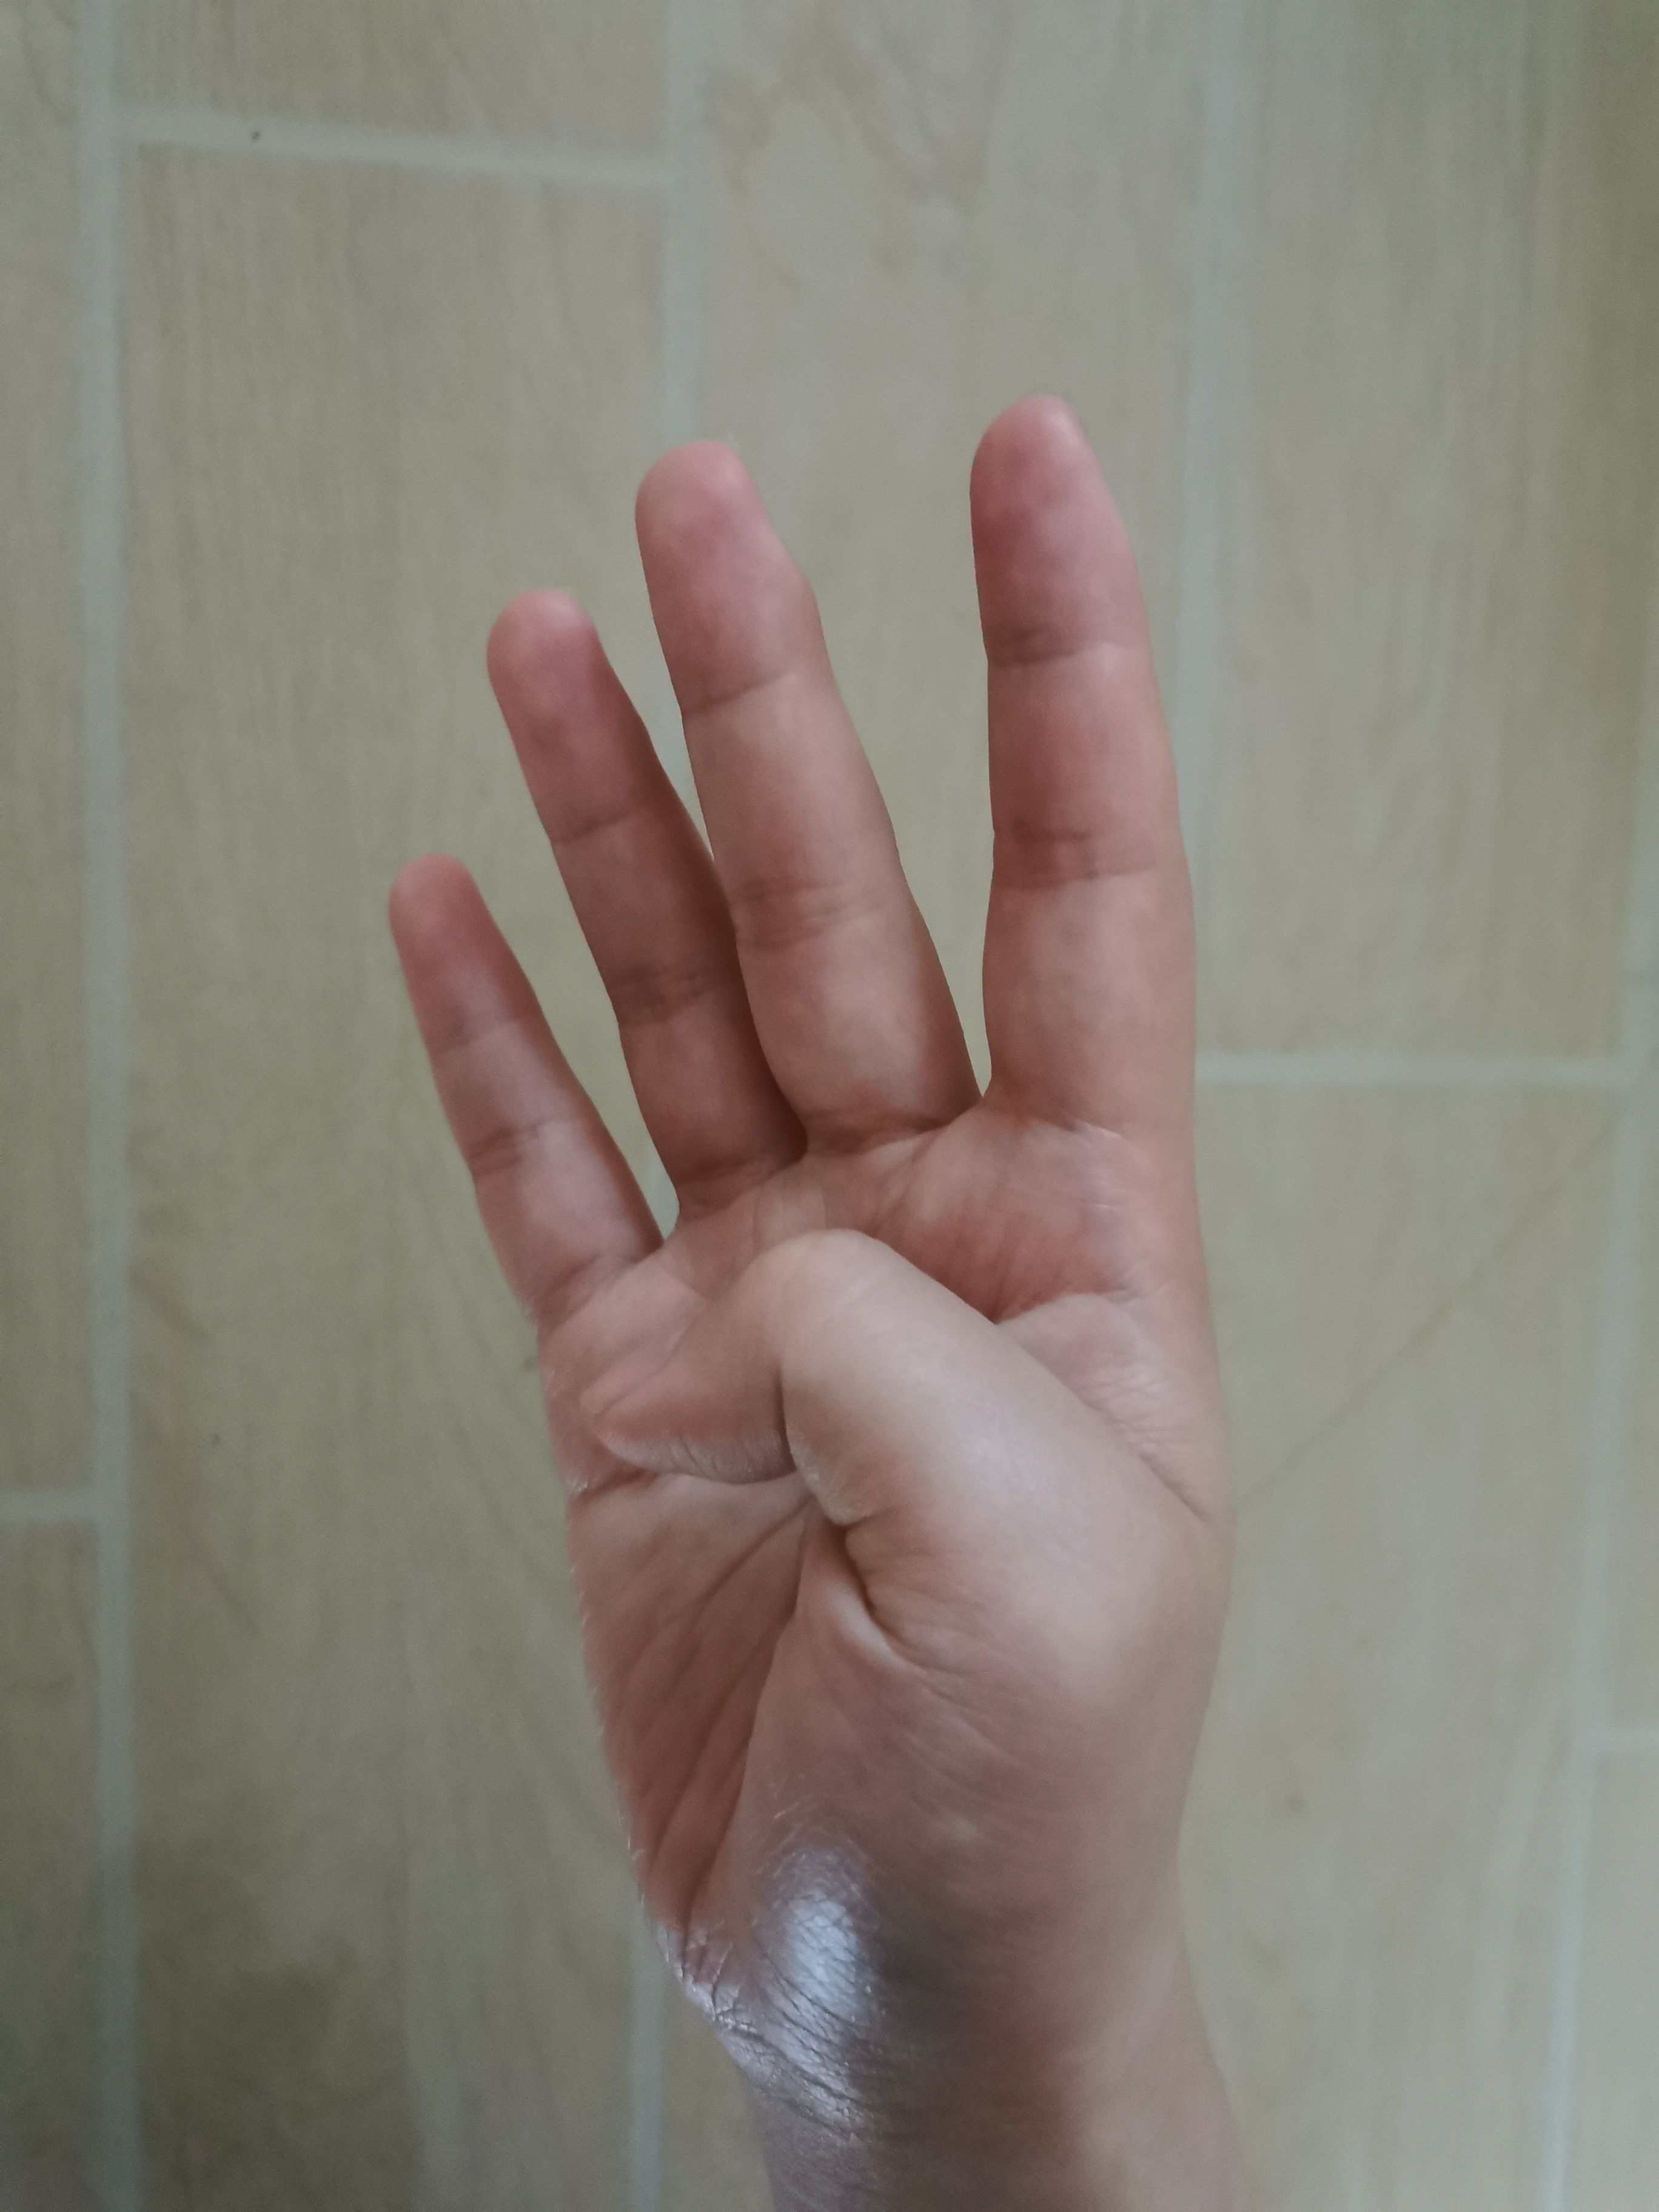right: (375, 397, 1192, 2081)
